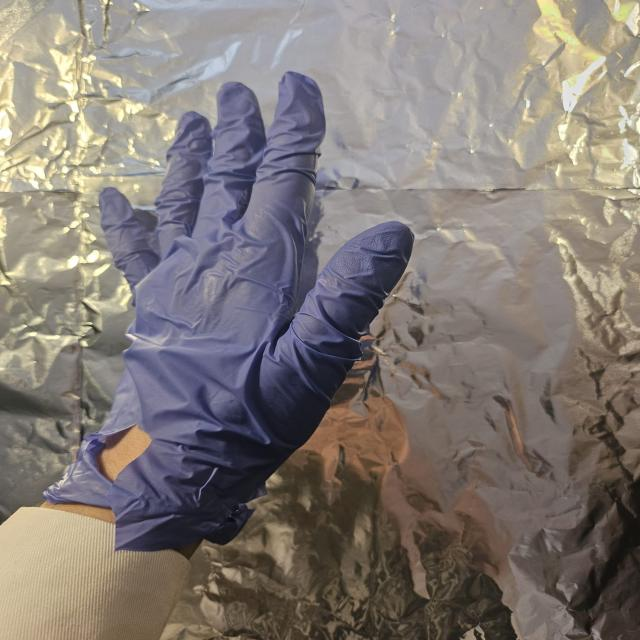gloves_damaged: (34, 70, 415, 553)
